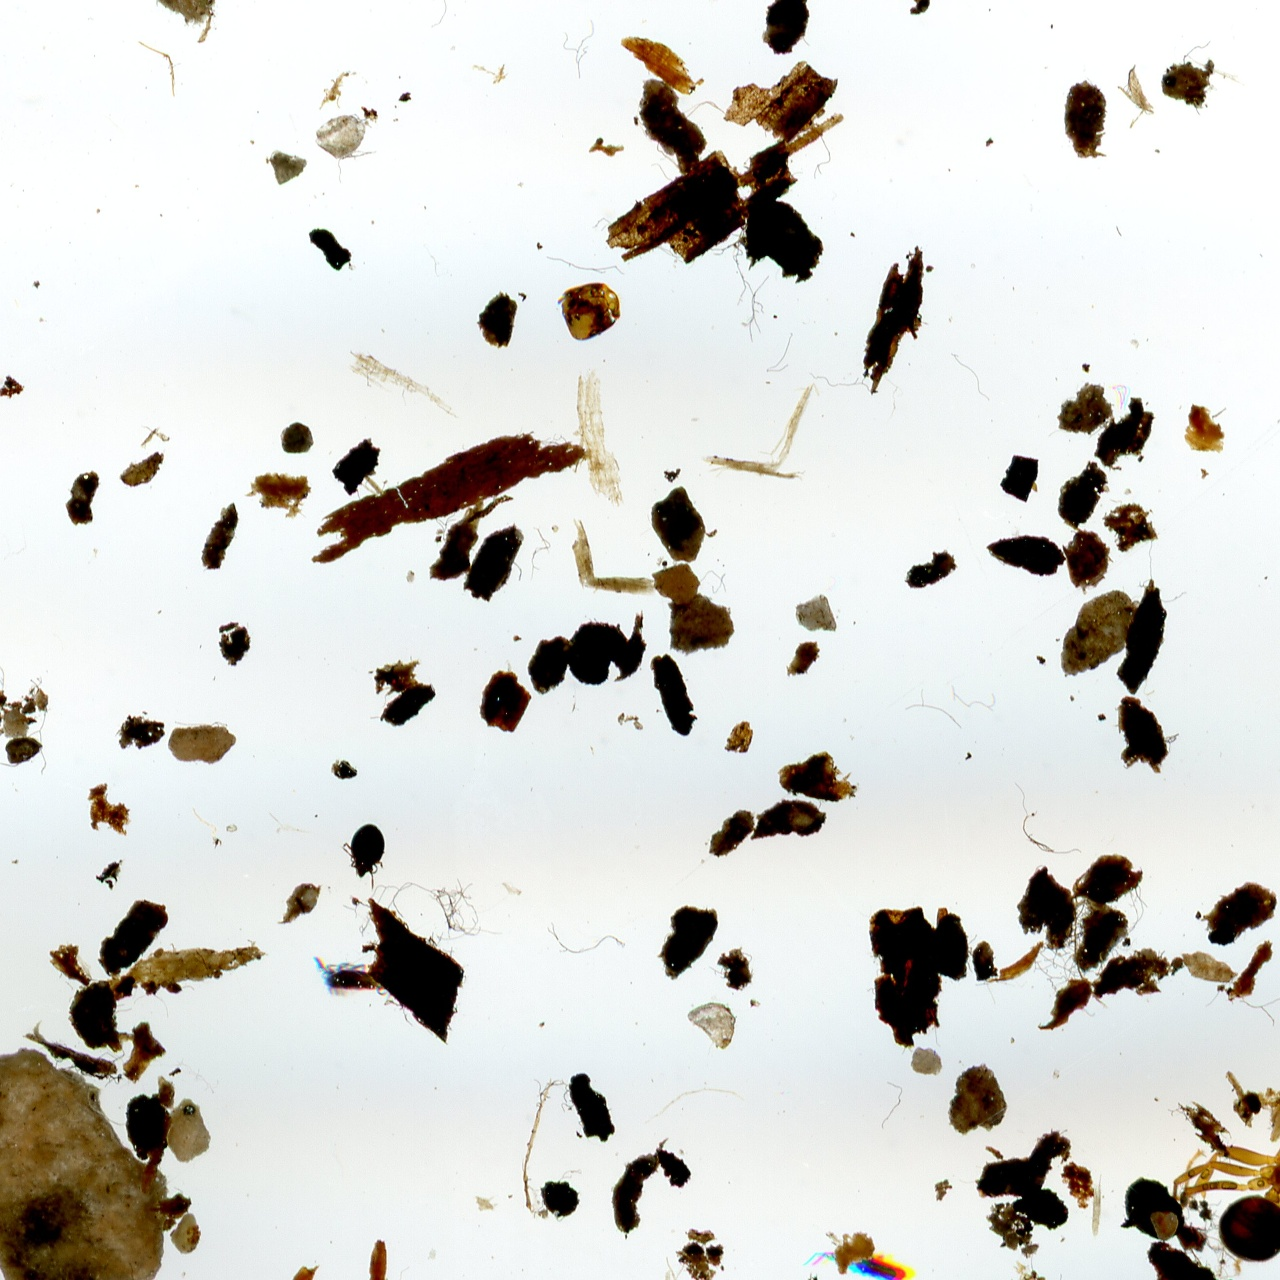arthropod: (1145, 1027, 1280, 1280), (797, 1232, 924, 1280), (311, 953, 393, 1003), (338, 819, 388, 893)
